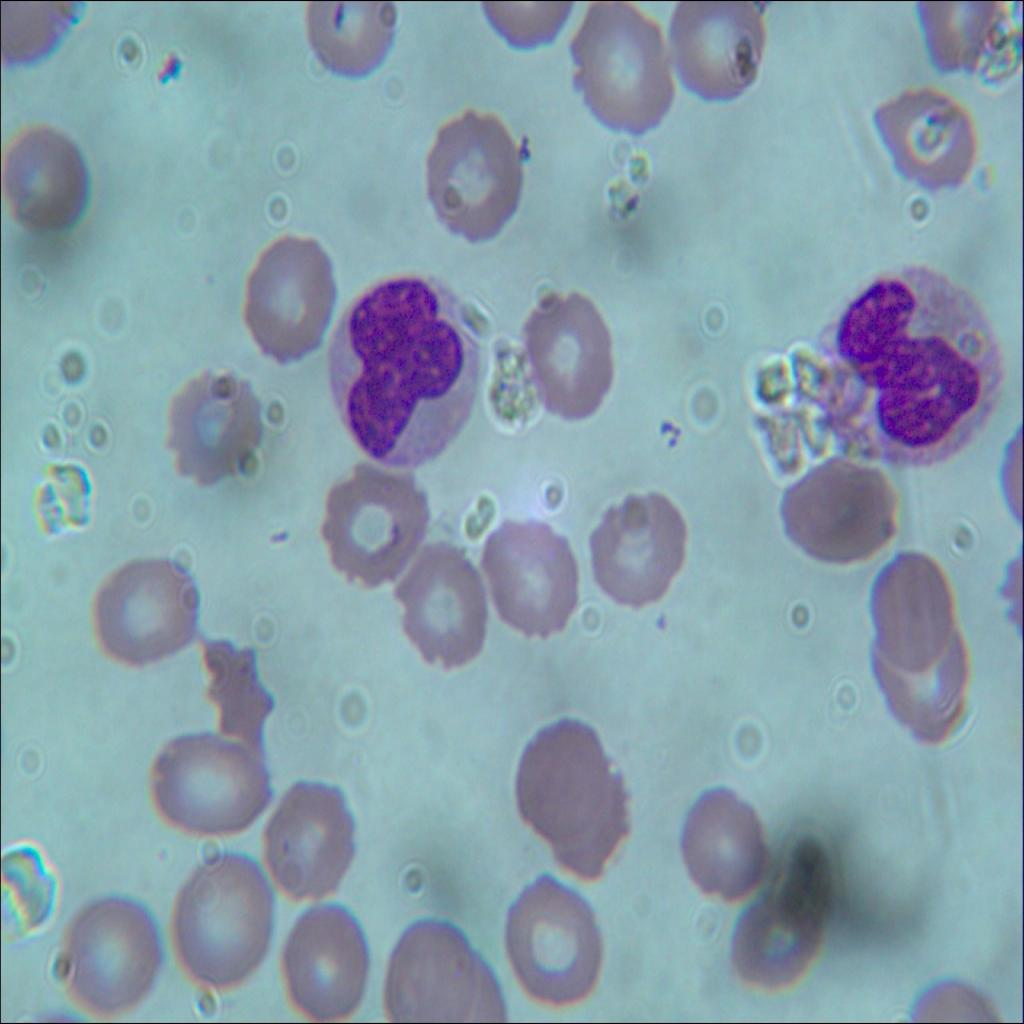Eritrosit: (521, 707, 636, 872), (766, 452, 904, 569), (322, 451, 432, 589), (589, 485, 693, 624), (569, 8, 679, 138), (141, 731, 276, 835), (875, 84, 988, 208), (518, 286, 616, 428), (426, 108, 528, 244), (863, 616, 974, 738), (55, 898, 168, 1016), (171, 858, 275, 986), (503, 878, 608, 1004), (238, 235, 338, 366), (668, 785, 776, 906), (396, 534, 491, 671), (486, 514, 581, 644), (278, 895, 374, 1023), (258, 782, 362, 899), (84, 558, 204, 658), (168, 371, 263, 494), (0, 124, 106, 232), (666, 0, 758, 118), (386, 920, 479, 1023), (733, 888, 818, 989), (872, 552, 950, 659), (304, 0, 395, 85)
Neutrofil: (828, 261, 1006, 465), (314, 272, 486, 465)
Platelet: (146, 48, 186, 85), (643, 598, 678, 636)
